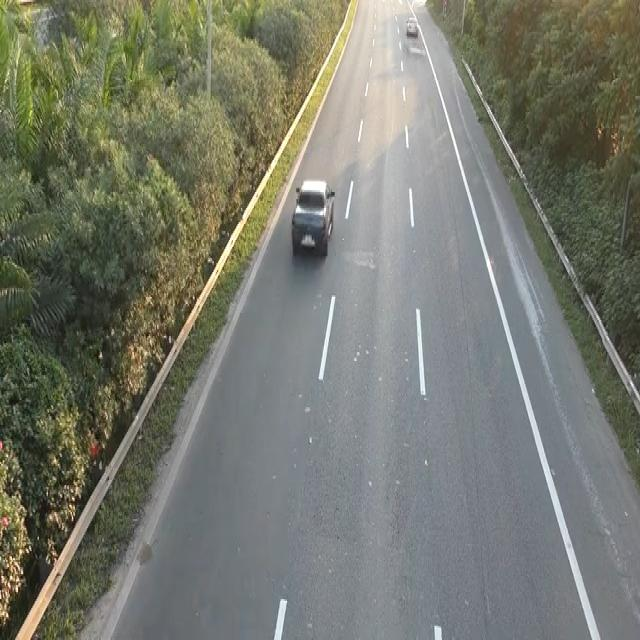car: (289, 174, 336, 258)
